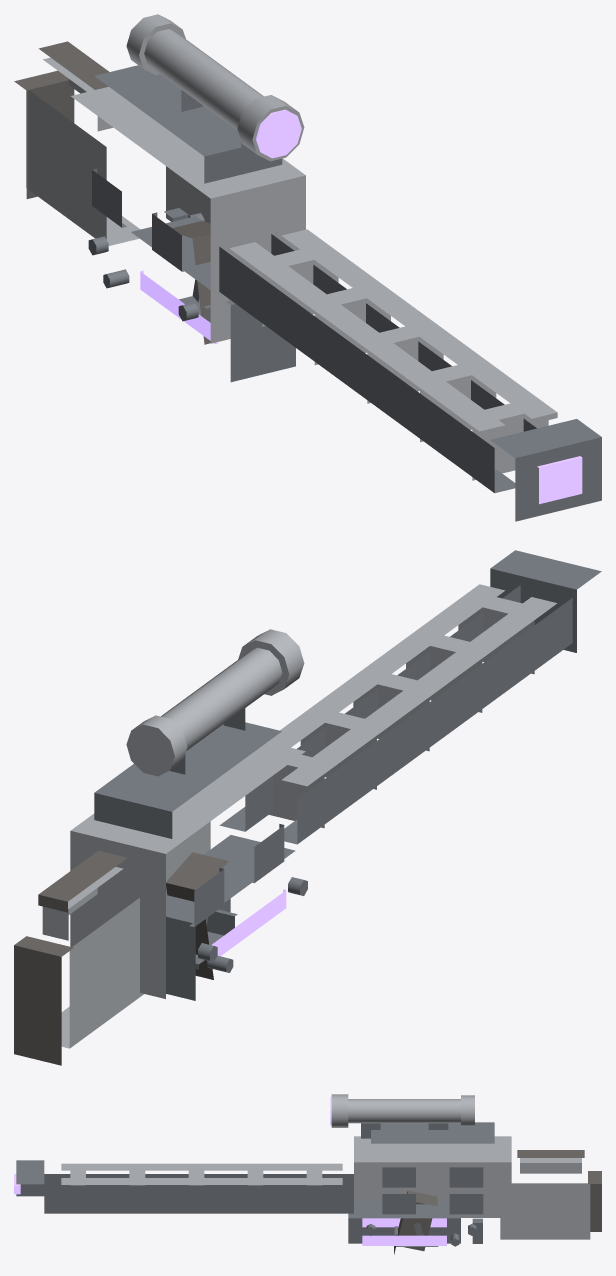
File: SM_Weapon_Railgun.glb
The picture shows the model from 3 angles, top to bottom: view 1: azimuth 30°, elevation 25°; view 2: azimuth 150°, elevation 25°; view 3: azimuth 270°, elevation 25°; orthographic projection. The views are drawn at different scales.
Parts seen in each view (by area): view 1: SM_Weapon_Railgun; view 2: SM_Weapon_Railgun; view 3: SM_Weapon_Railgun.
Part boxes in pixels (bbox=[...]): SM_Weapon_Railgun: bbox=[14, 14, 601, 521]; SM_Weapon_Railgun: bbox=[14, 550, 601, 1065]; SM_Weapon_Railgun: bbox=[14, 1094, 601, 1254].
Bounding box in the file's own units: 0.13 × 0.3132 × 1.04.
